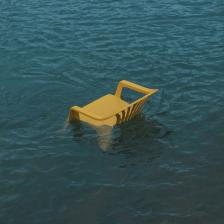yellow: (69, 80, 158, 127)
